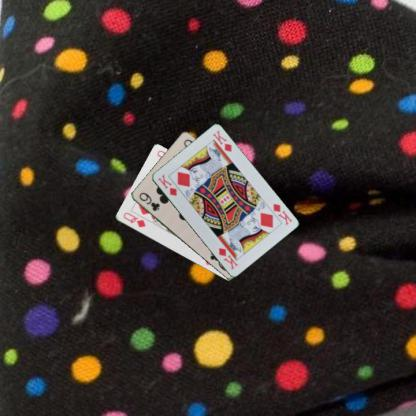9c: (136, 190, 161, 212)
Kd: (271, 201, 294, 227), (155, 172, 178, 197)
Qd: (120, 210, 147, 229)
